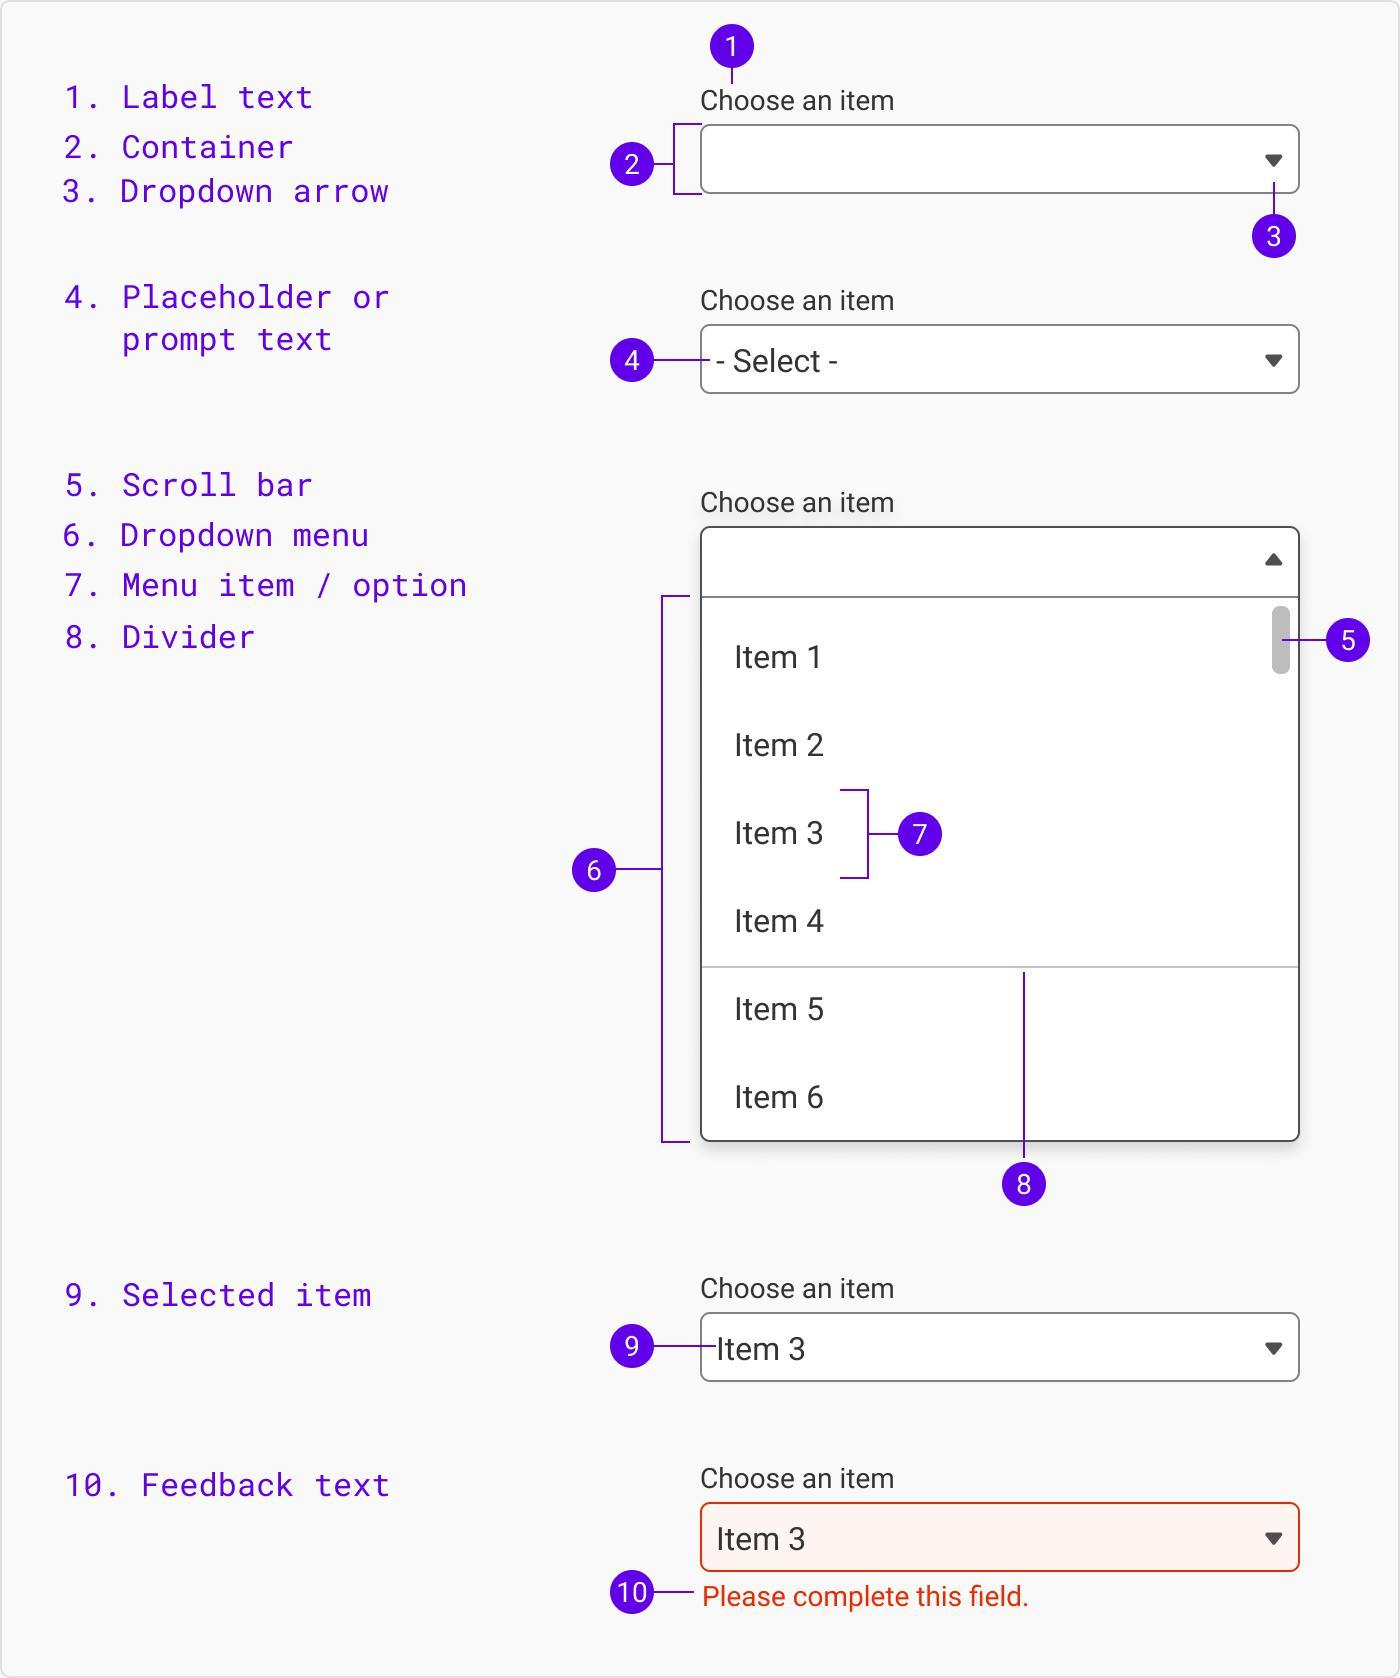dropdown: (702, 527, 1297, 599), (701, 124, 1300, 195), (703, 1313, 1301, 1381), (703, 326, 1298, 394), (703, 1507, 1301, 1571)
label: (694, 1270, 905, 1306), (699, 1461, 903, 1498), (699, 82, 899, 117), (694, 486, 905, 518), (699, 284, 903, 316)
